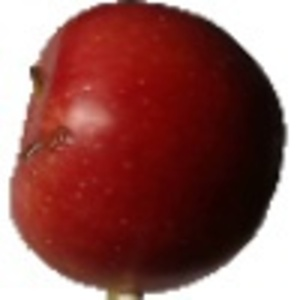maçã braeburn: (5, 1, 285, 290)
